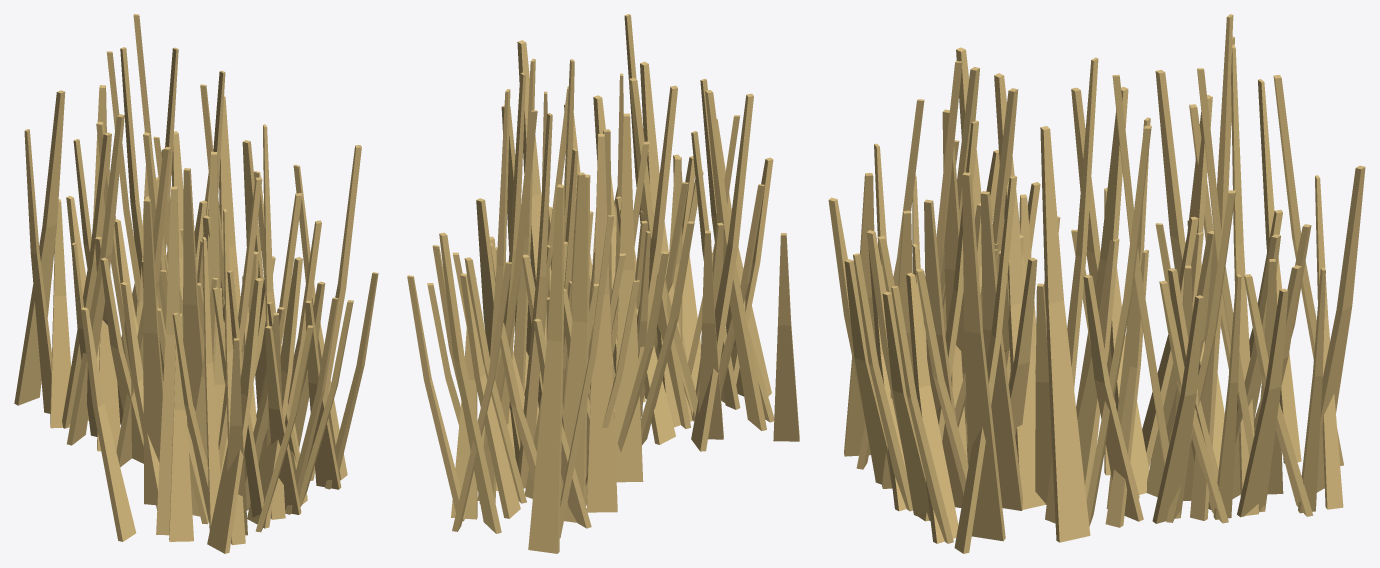
The model's file is grass02.fbx.
3 renders of one model, left to right at view 1: azimuth 30°, elevation 25°; view 2: azimuth 150°, elevation 25°; view 3: azimuth 270°, elevation 25°, orthographic. The views are drawn at different scales.
Parts seen in each view (by area): view 1: Plane.035; view 2: Plane.035; view 3: Plane.035.
Part boxes in pixels (<box>): Plane.035: <box>14,14,378,553</box>; Plane.035: <box>407,14,799,553</box>; Plane.035: <box>828,14,1365,553</box>.
Size of the model in its own units: 0.2751 by 0.3966 by 0.4014.
